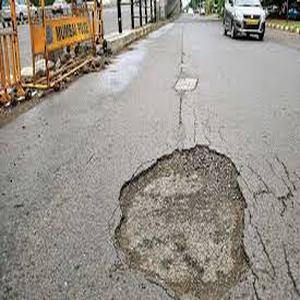pothole: (112, 142, 262, 300)
